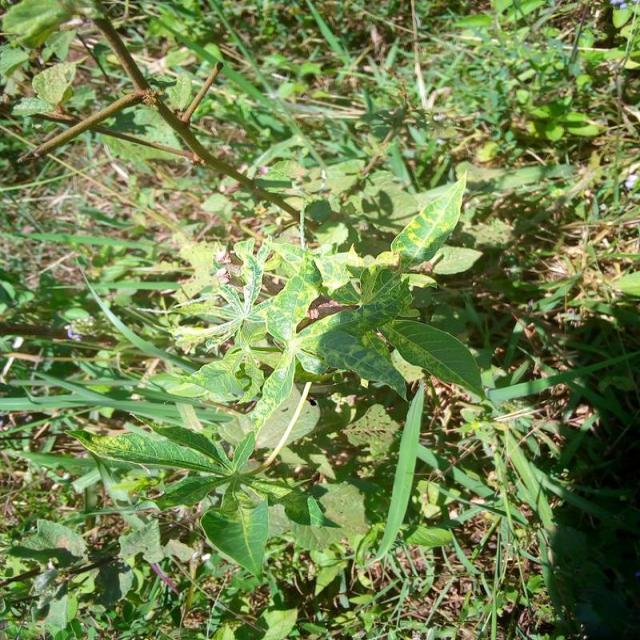cassava leaf: (389, 168, 467, 269), (199, 486, 269, 580)
